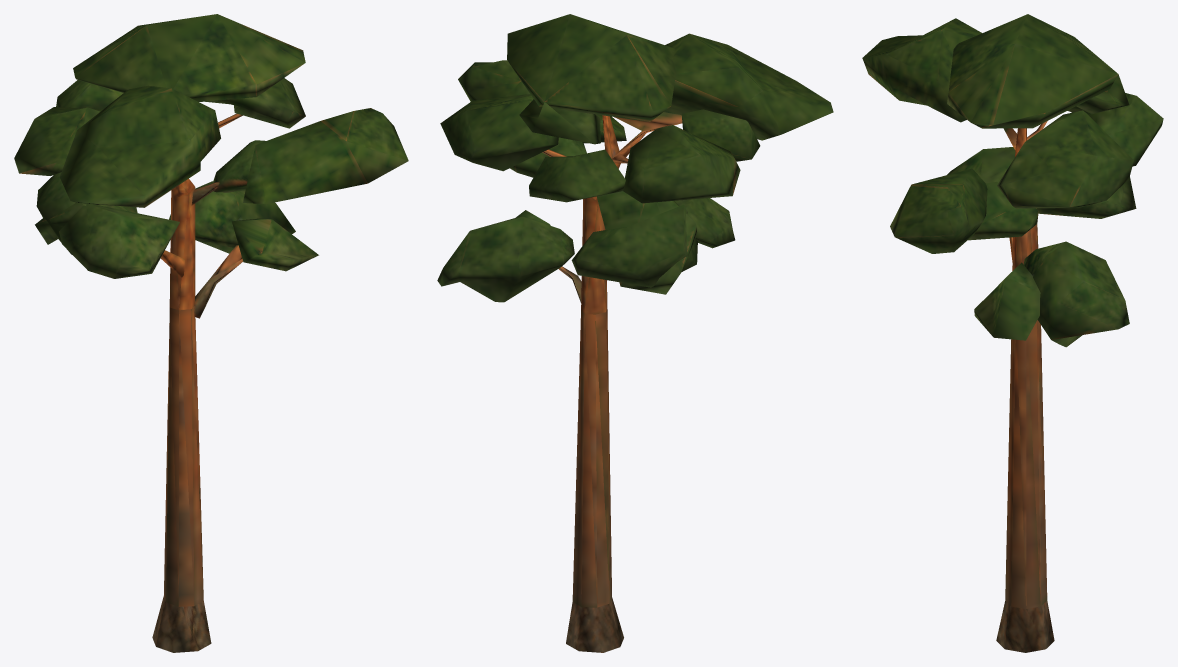
File: tree-pine-01.glb
3 views of the same model, side by side, from view 1: azimuth 30°, elevation 25°; view 2: azimuth 150°, elevation 25°; view 3: azimuth 270°, elevation 25° (orthographic). The views are drawn at different scales.
Bounding box in the file's own units: 0.5635 × 0.9531 × 0.4263.
Materials: 1 (1 with a texture image).
